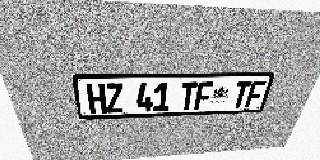1: (153, 82, 171, 111)
4: (137, 83, 154, 112)
F: (244, 81, 266, 108), (194, 82, 214, 110)
H: (86, 83, 107, 114)
T: (231, 81, 252, 108), (179, 82, 198, 110)
Z: (105, 83, 124, 113)
